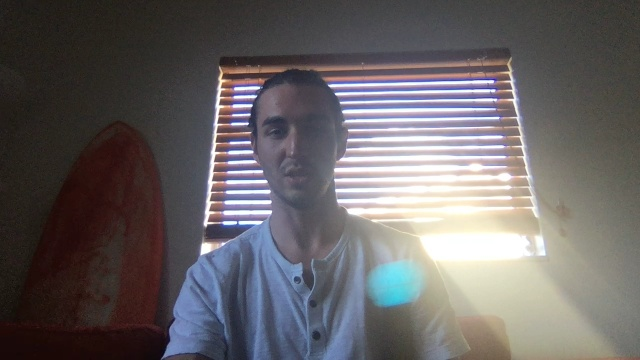wand: (371, 265, 418, 307)
